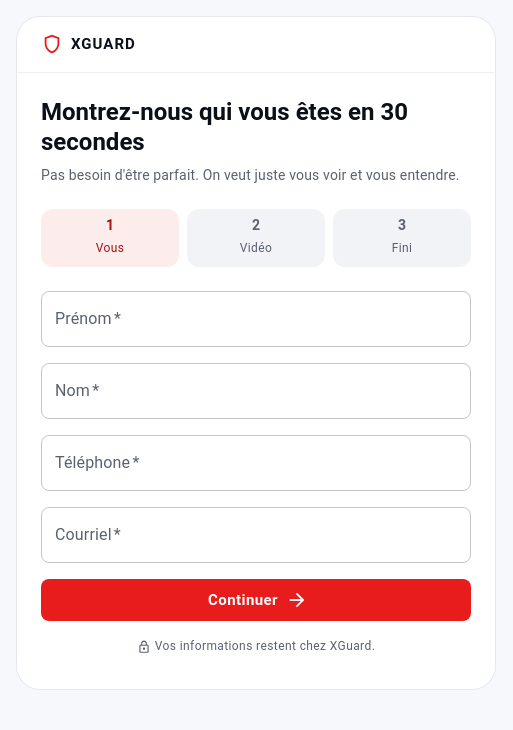
Test: OpenVideoUploadPage — lien général /video › courriel mal formé → message
Type "Karim" into the field labelled "Prénom *".
click(256, 319); type("Karim")  # box [41,291,471,347]
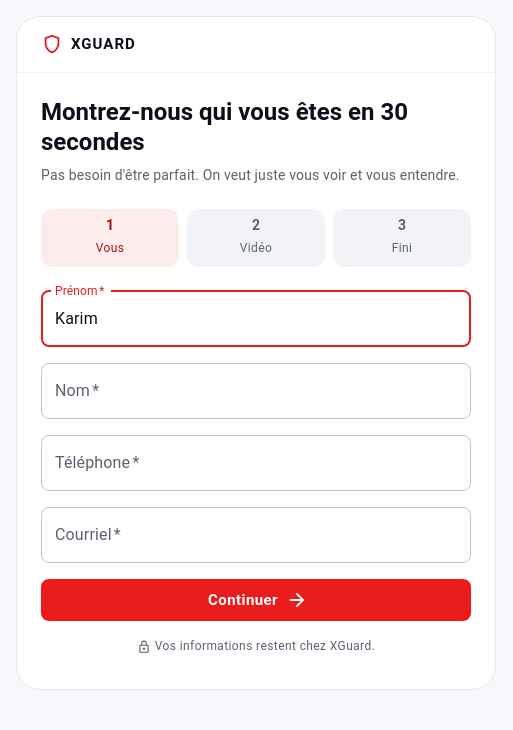
Type "Benali" into the field labelled "Nom *".
click(256, 391); type("Benali")  # box [41,363,471,419]
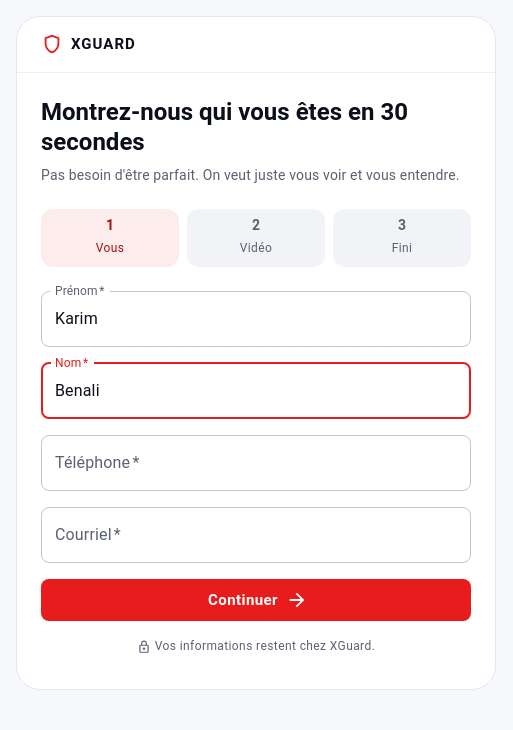
Type "514 555-1234" into the field labelled "Téléphone *".
click(256, 463); type("514 555-1234")  # box [41,435,471,491]
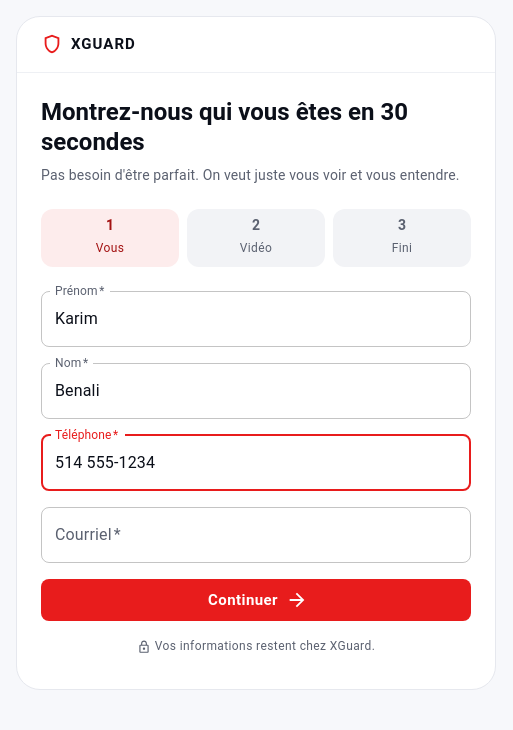
Type "karim@" into the field labelled "Courriel *".
click(256, 535); type("karim@")  # box [41,507,471,563]
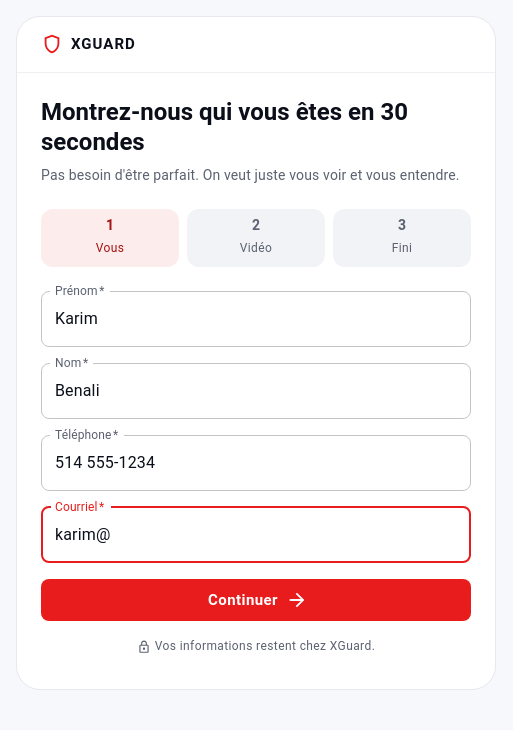
Click the button "Continuer".
click(256, 600)  # box [41,579,471,621]
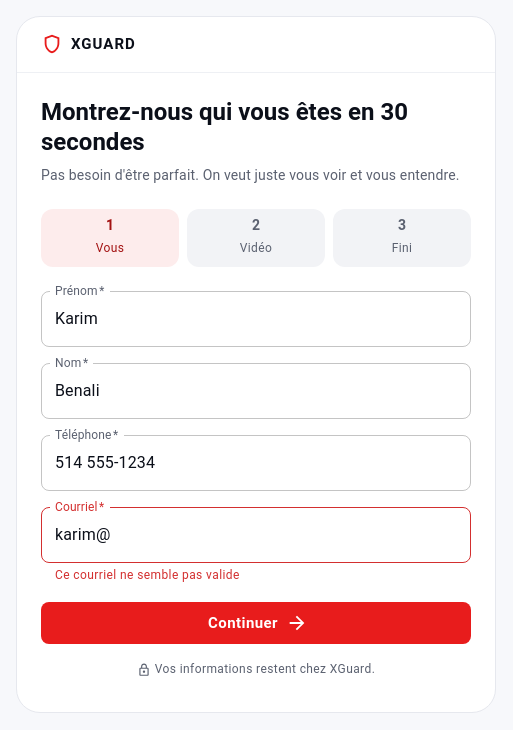
Now the text "Ce courriel ne semble pas valide" is shown, box [55,568,240,582]
